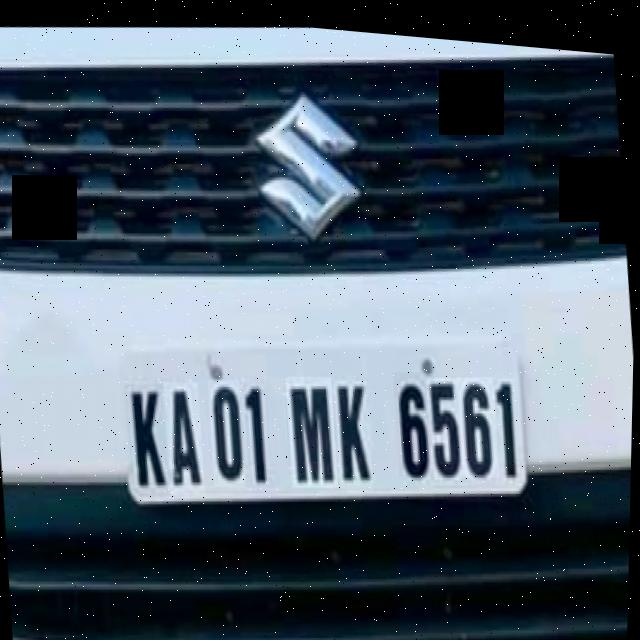0: (208, 373, 251, 486)
1: (238, 375, 284, 485), (491, 363, 526, 478)
5: (427, 366, 468, 473)
6: (456, 365, 502, 472), (392, 361, 436, 471)
A: (163, 375, 209, 494)
K: (123, 378, 173, 497), (332, 369, 377, 487)
M: (285, 367, 342, 485)
